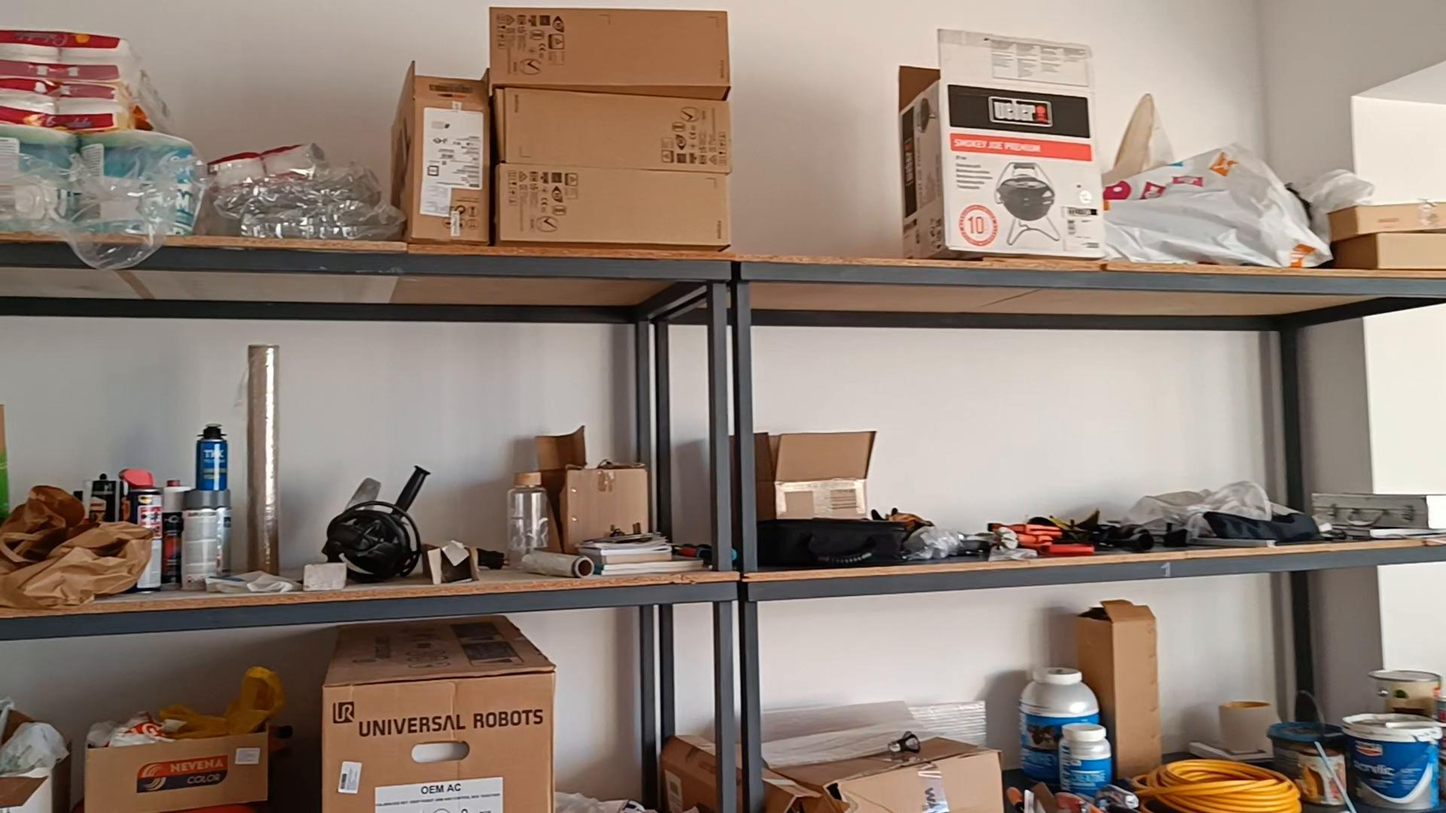wall: (8, 329, 635, 528), (885, 3, 1440, 178), (758, 335, 1275, 502), (5, 4, 478, 153), (734, 6, 896, 250), (766, 610, 1061, 734), (1307, 322, 1440, 491)
